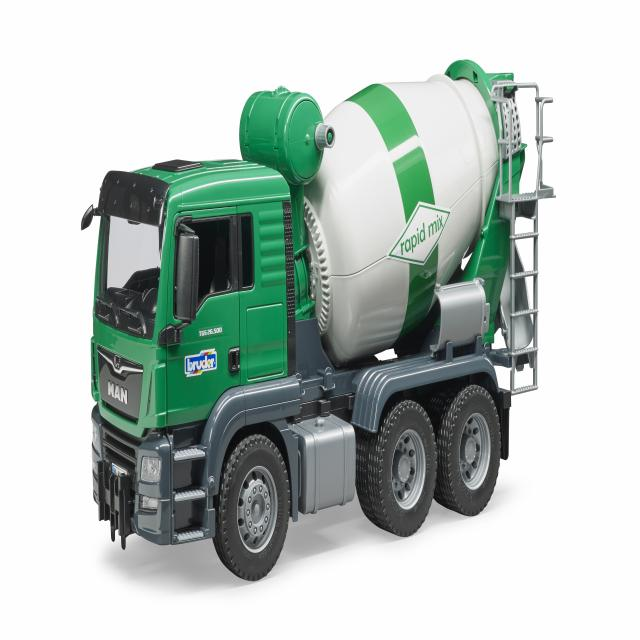Mixer Truck: (91, 61, 554, 582)
